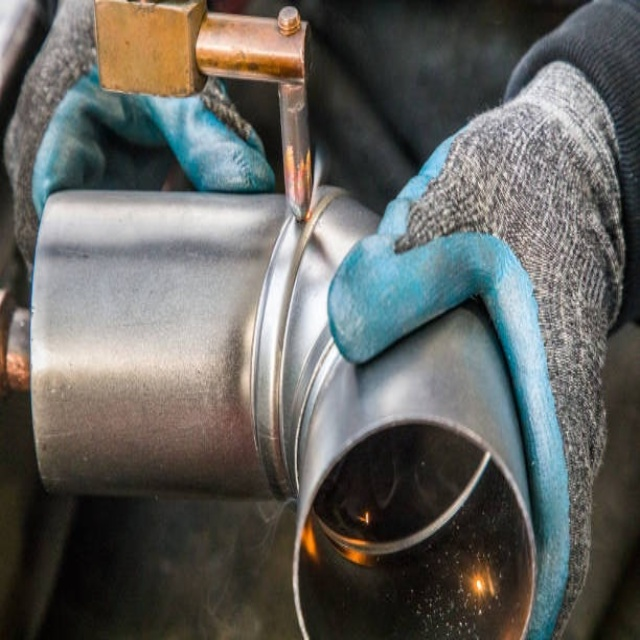Guantes: (333, 1, 639, 640), (1, 0, 276, 286)
